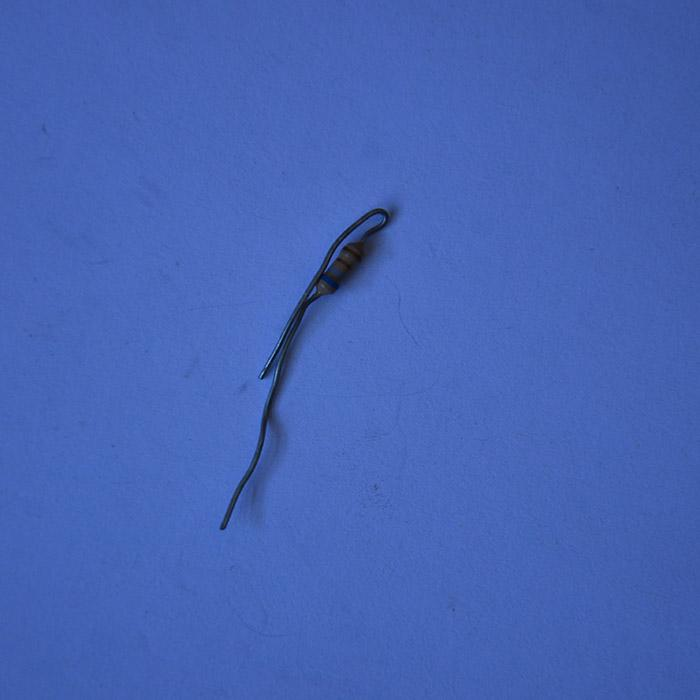resistor: (317, 240, 364, 296)
